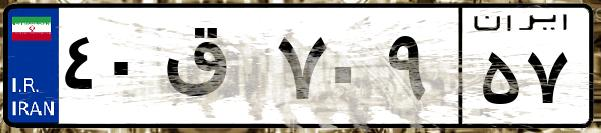0: (330, 28, 385, 110), (110, 28, 158, 98)
4: (57, 26, 110, 100)
5: (475, 38, 525, 113)
7: (270, 28, 330, 110), (525, 38, 570, 115)
9: (385, 28, 445, 110)
ق: (158, 20, 270, 120)
